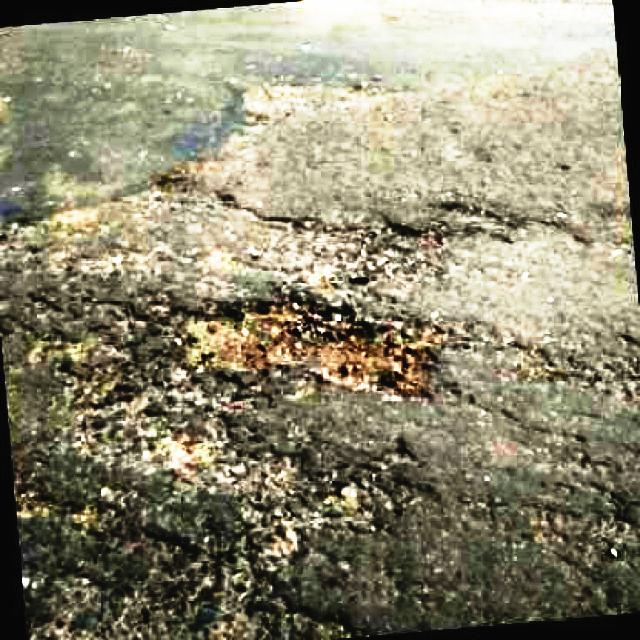pothole: (180, 294, 445, 406)
